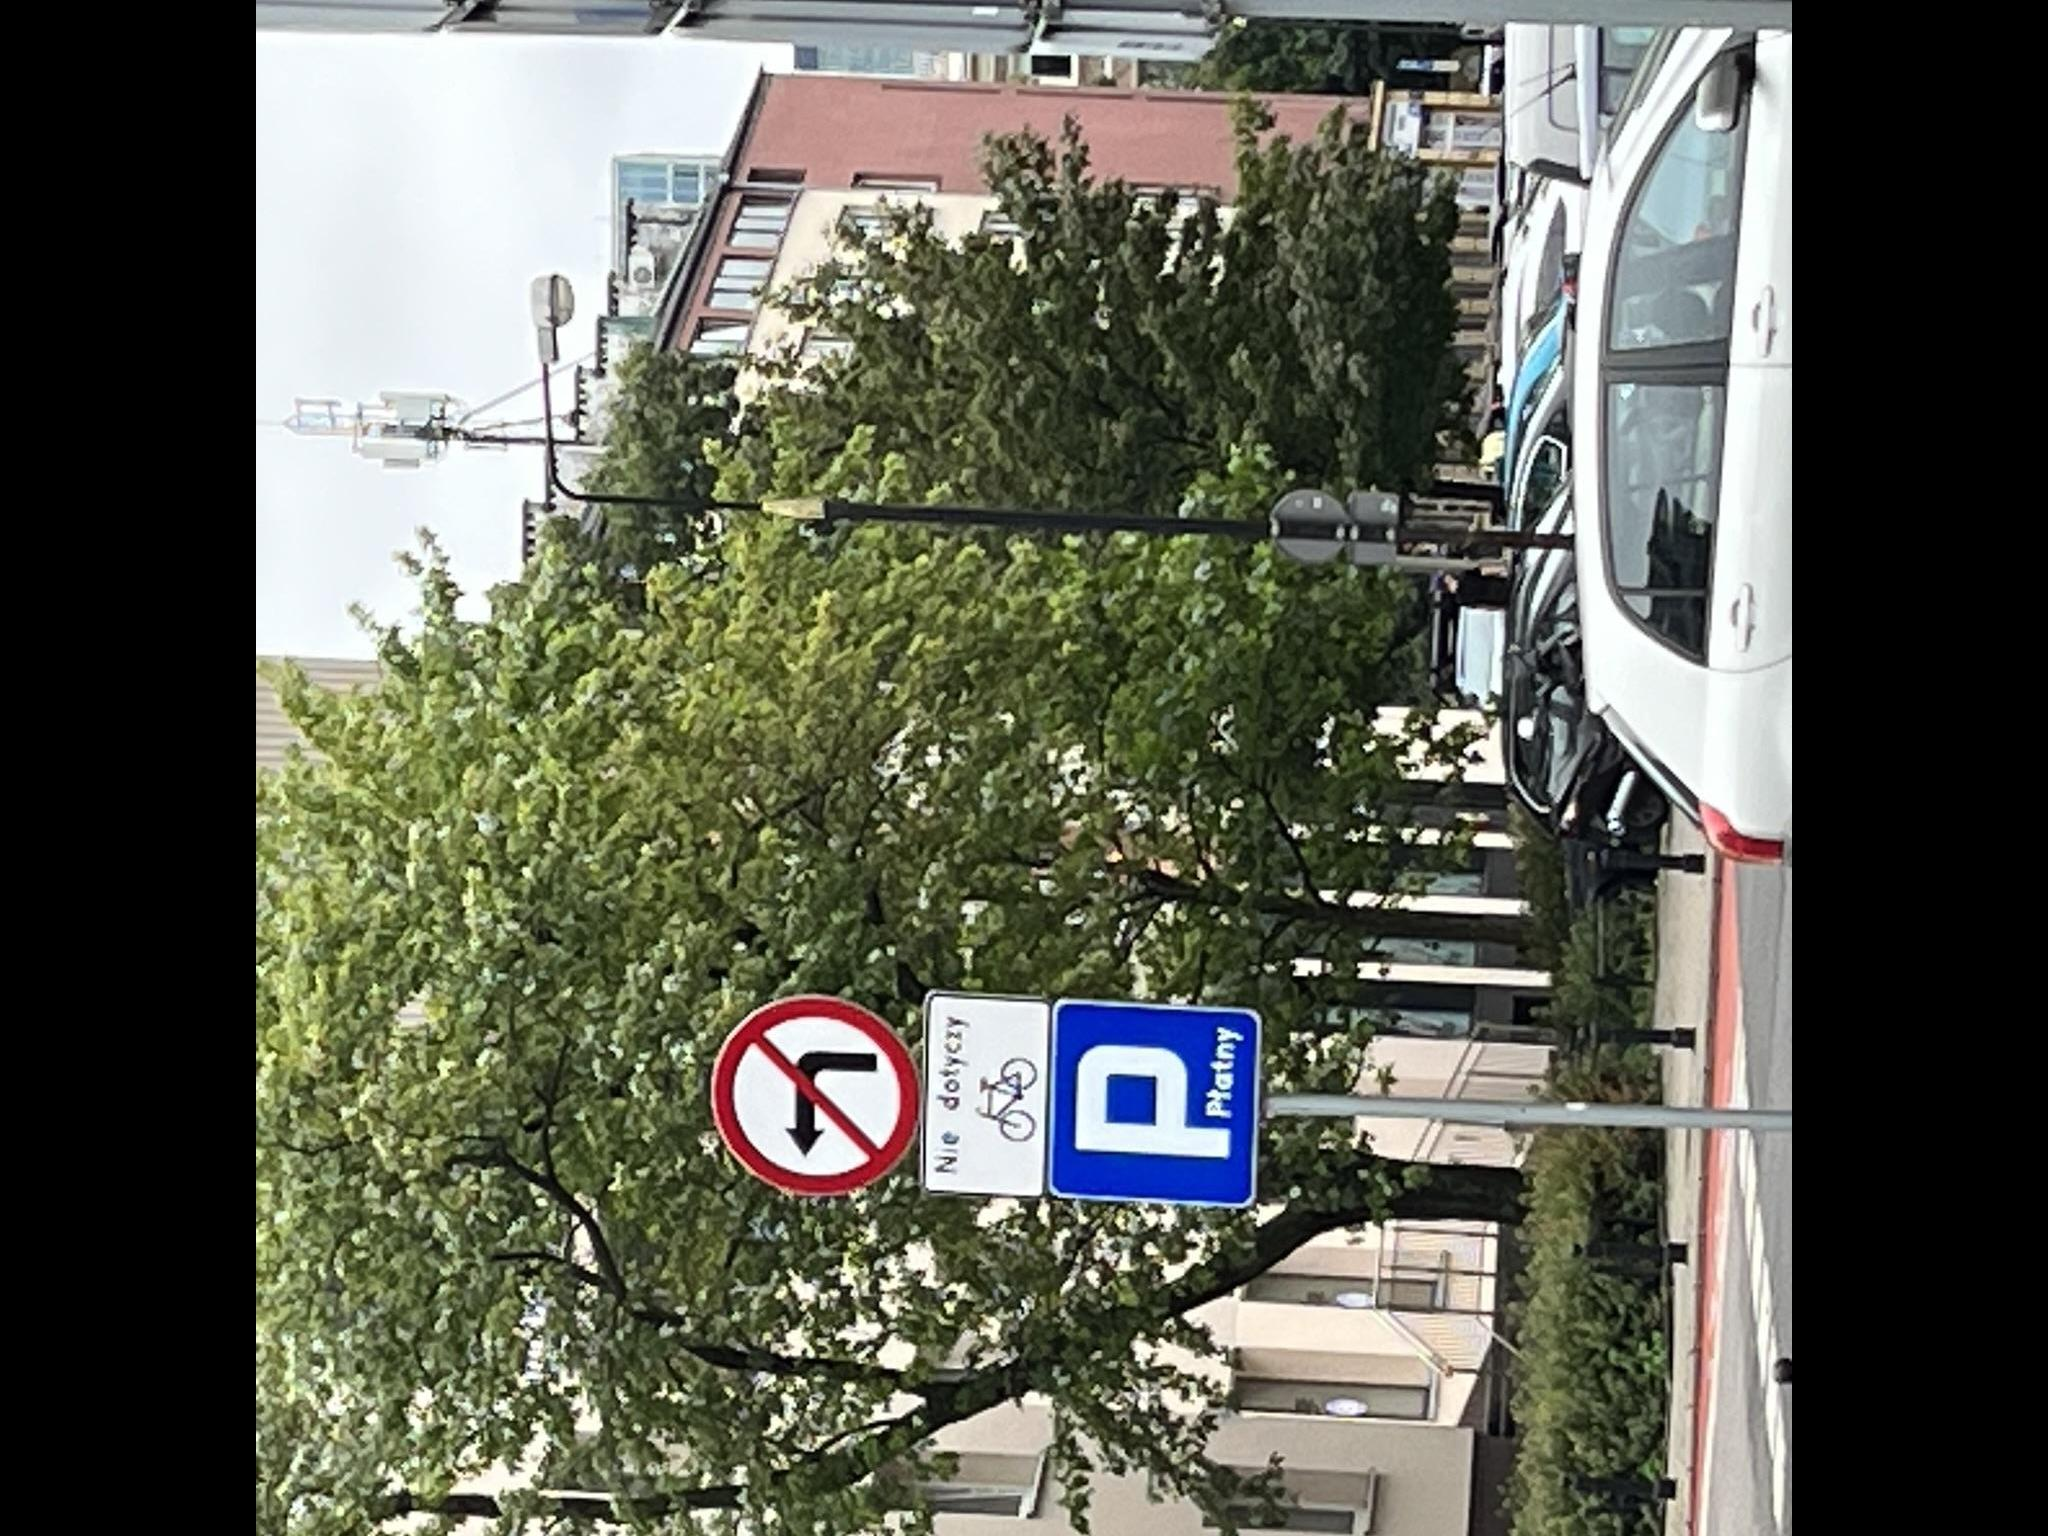information: (1048, 994, 1263, 1205)
other: (921, 986, 1051, 1194)
prohibitory: (708, 987, 924, 1199)
